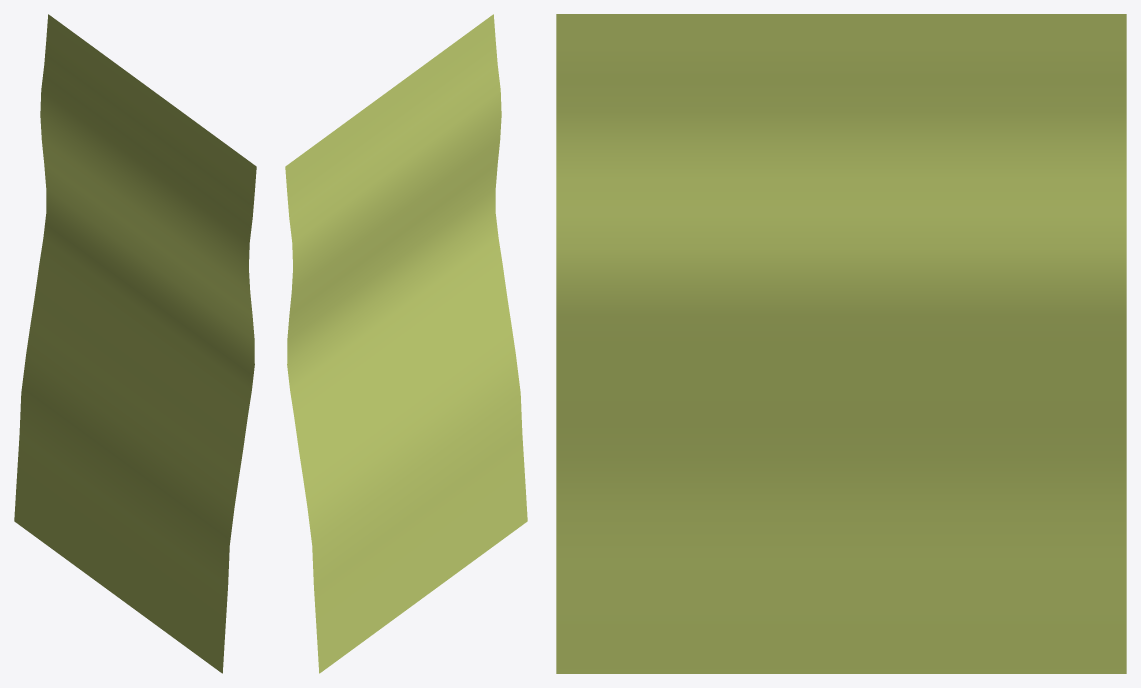
Rendered from informacion.fbx.
3 views of the same model, side by side, from view 1: azimuth 30°, elevation 25°; view 2: azimuth 150°, elevation 25°; view 3: azimuth 270°, elevation 25° (orthographic). The views are drawn at different scales.
Visible parts, largest first — view 1: informacion; view 2: informacion; view 3: informacion.
Part boxes in pixels (bbox=[...]): informacion: bbox=[14, 14, 256, 673]; informacion: bbox=[285, 14, 527, 673]; informacion: bbox=[556, 14, 1126, 673].
Bounding box in the file's own units: 7.07 × 99.2 × 75.13.
